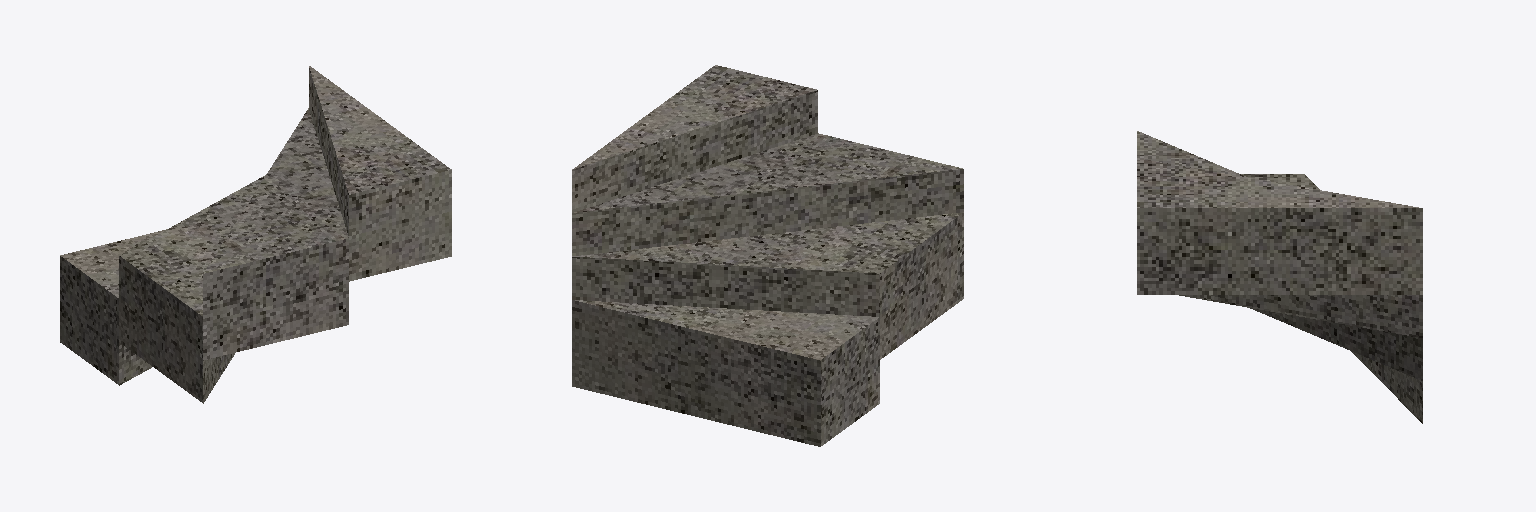
3 renders of one model, left to right at view 1: azimuth 30°, elevation 25°; view 2: azimuth 150°, elevation 25°; view 3: azimuth 270°, elevation 25°, orthographic.
Bounding box in the file's own units: 1 × 0.8333 × 1.
Materials: 1 (1 with a texture image).